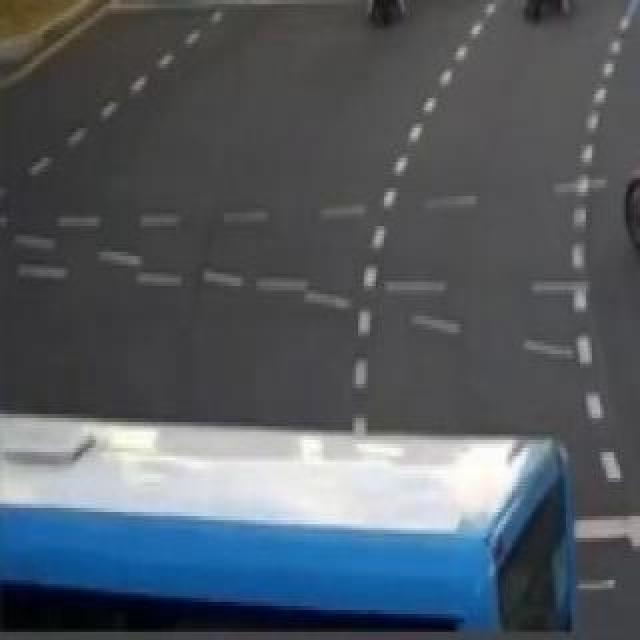motorbike: (606, 52, 640, 282), (342, 0, 418, 32), (520, 0, 576, 42)
